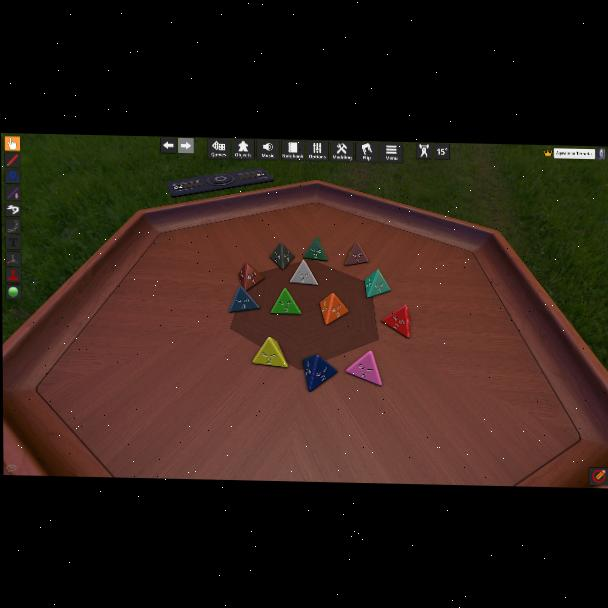d4: (347, 350, 383, 386), (302, 354, 335, 392), (253, 336, 288, 368), (381, 304, 409, 338), (320, 293, 347, 326), (271, 287, 302, 315), (229, 286, 260, 313), (289, 259, 317, 286), (363, 270, 389, 299), (237, 262, 263, 291), (269, 241, 294, 271), (304, 237, 328, 263), (344, 241, 368, 267)
